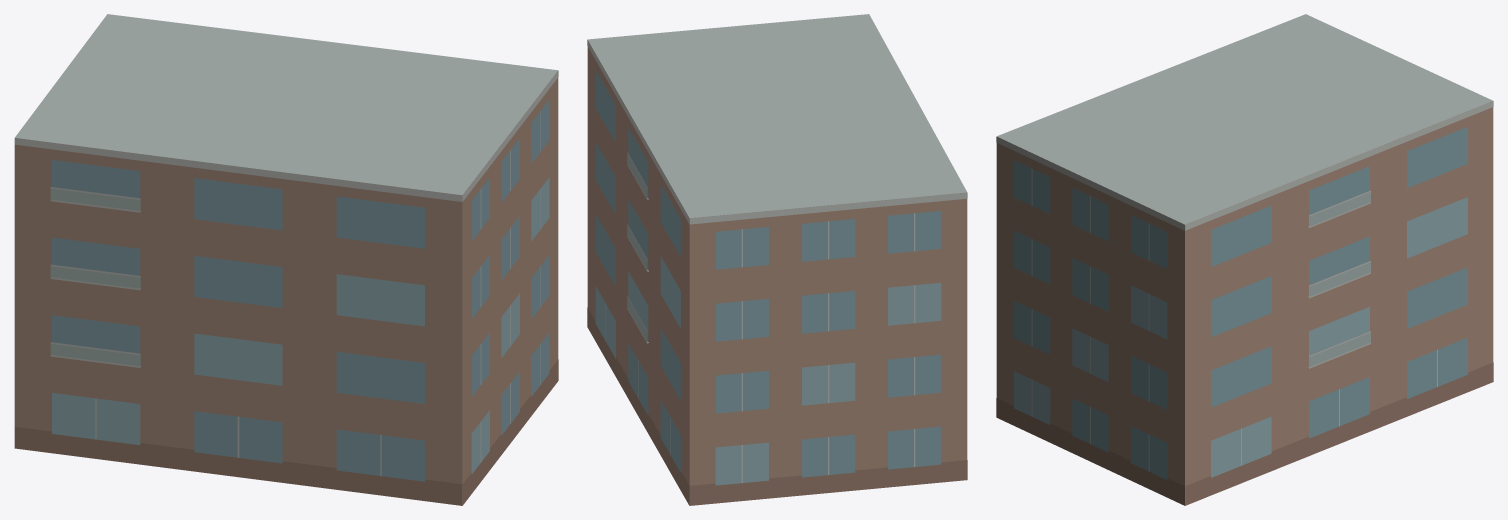
The model's file is survey-upis-32772406.glb.
The picture shows the model from 3 angles, left to right: view 1: azimuth 30°, elevation 25°; view 2: azimuth 150°, elevation 25°; view 3: azimuth 270°, elevation 25°; orthographic projection. The views are drawn at different scales.
Parts seen in each view (by area): view 1: survey-upis-32772406.tmp; view 2: survey-upis-32772406.tmp; view 3: survey-upis-32772406.tmp.
Boxes of the visible parts, bbox=[...] form: survey-upis-32772406.tmp: bbox=[14, 14, 558, 505]; survey-upis-32772406.tmp: bbox=[587, 14, 967, 505]; survey-upis-32772406.tmp: bbox=[996, 14, 1493, 505].
Size of the model in its own units: 18.01 by 11.2 by 17.95.
